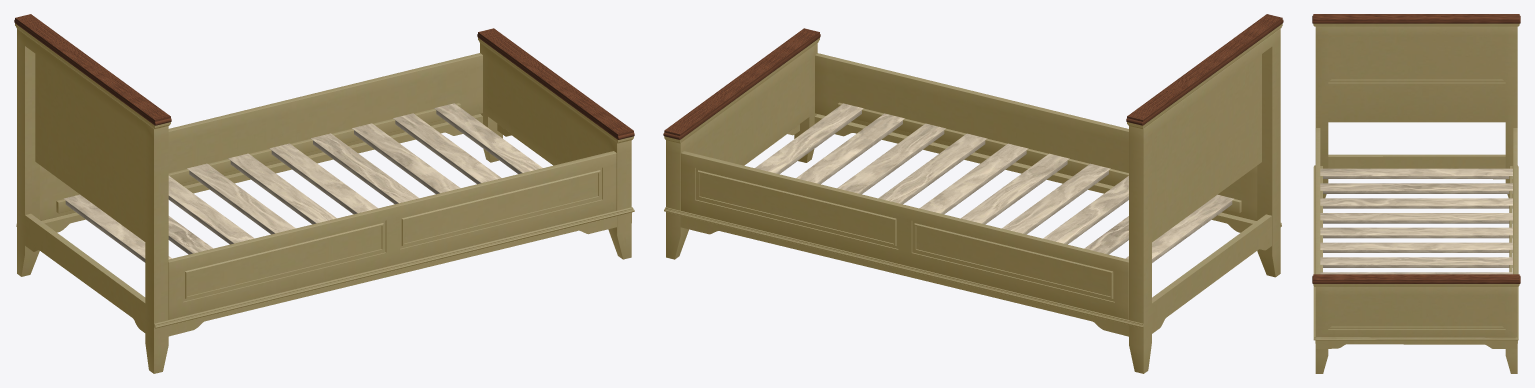
3 renders of one model, left to right at view 1: azimuth 30°, elevation 25°; view 2: azimuth 150°, elevation 25°; view 3: azimuth 270°, elevation 25°, orthographic. The views are drawn at different scales.
Parts seen in each view (by area): view 1: Merged Objects, Merged Objects 1, Merged Objects 2; view 2: Merged Objects, Merged Objects 1, Merged Objects 2; view 3: Merged Objects, Merged Objects 1, Merged Objects 2.
Boxes of the visible parts, bbox=[...] form: Merged Objects: bbox=[15, 23, 634, 373]; Merged Objects 1: bbox=[63, 103, 542, 262]; Merged Objects 2: bbox=[14, 14, 634, 139]; Merged Objects: bbox=[664, 23, 1282, 373]; Merged Objects 1: bbox=[755, 103, 1233, 262]; Merged Objects 2: bbox=[663, 14, 1283, 139]; Merged Objects: bbox=[1313, 23, 1519, 373]; Merged Objects 1: bbox=[1320, 168, 1512, 274]; Merged Objects 2: bbox=[1312, 14, 1520, 283].
Size of the model in its own units: 0.4029 by 0.2045 by 0.2054.
Materials: 3 (3 with a texture image).
